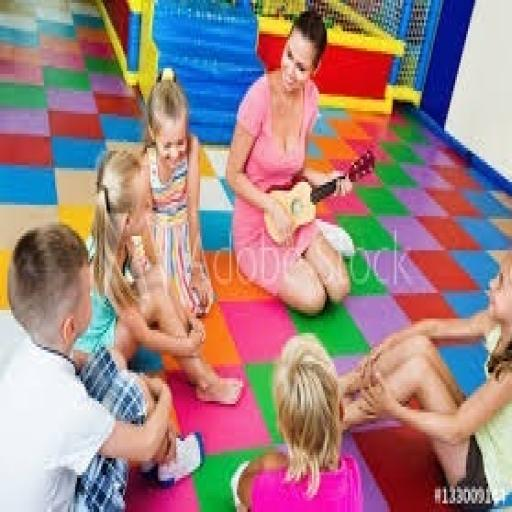sitting: (0, 219, 174, 509), (340, 248, 510, 509), (74, 145, 242, 407), (224, 8, 356, 316), (231, 330, 365, 509), (136, 71, 216, 322)
